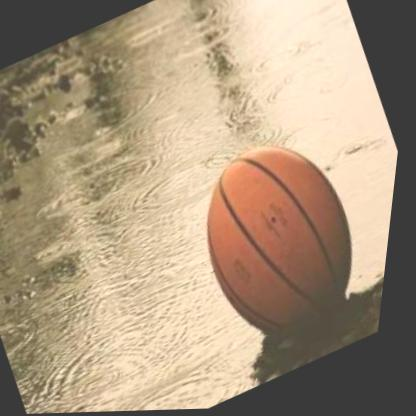basketball: (164, 114, 405, 371)
